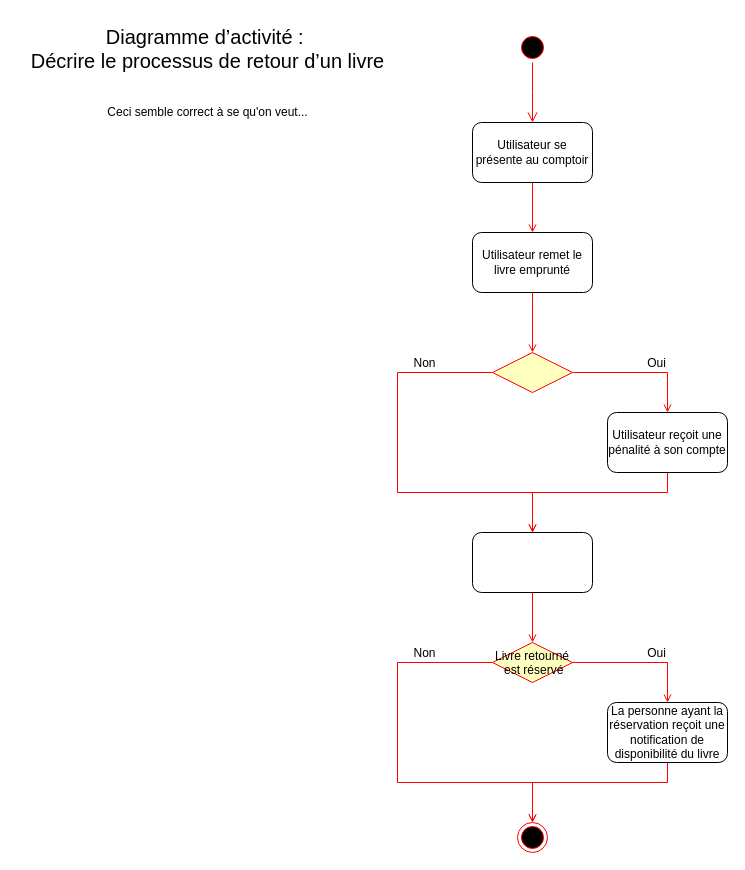
This 745x870 diagram has some shape labels left out. The centre of each missing label's shape, as x and y in pixels:
On confirme le retour du livre: the point at 532,562
Retour est en retard: the point at 532,372
